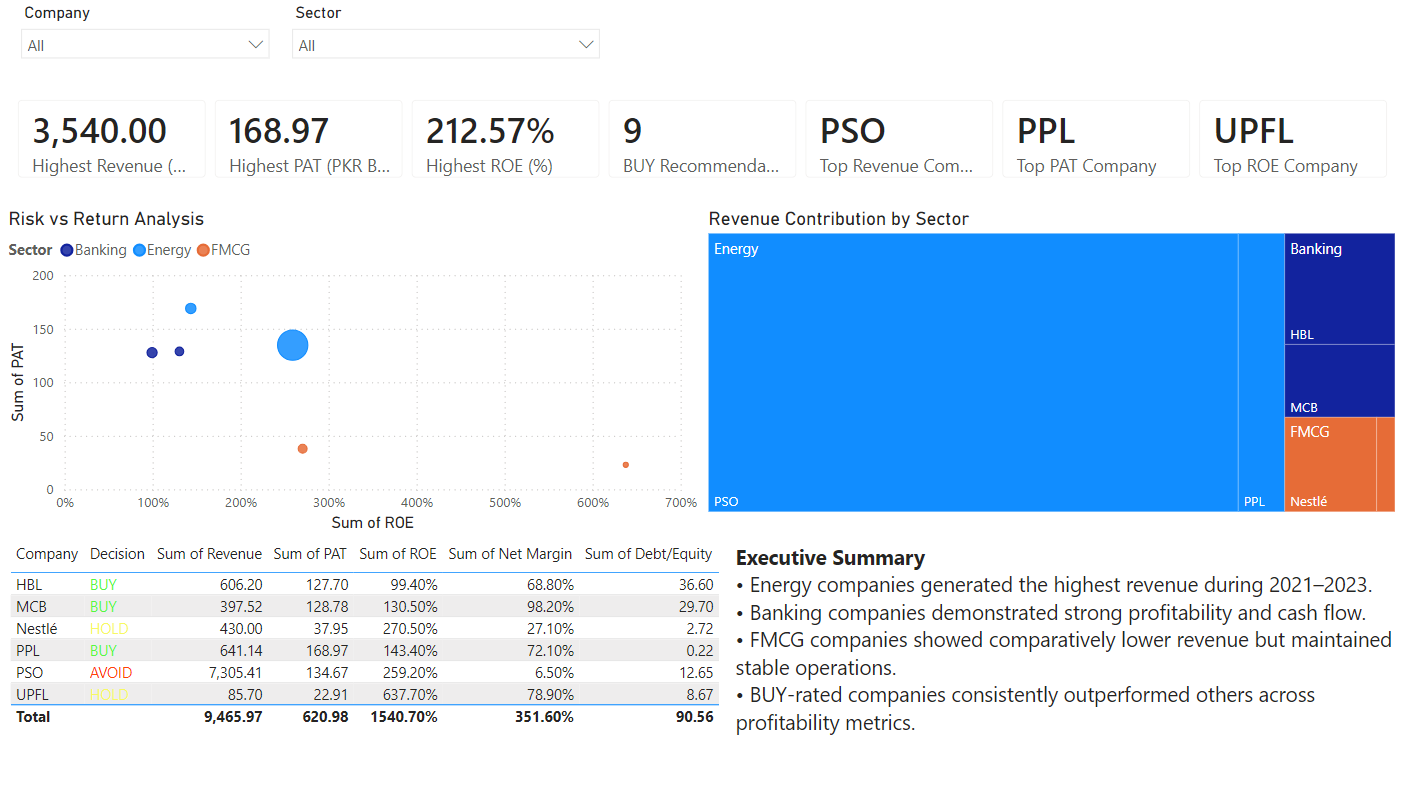

What the dashboard file says about the page in this screenshot:
{"tool":"powerbi","page":{"name":"Investment Insights","canvas":[1280,720],"ordinal":2},"visuals":[{"type":"cardVisual","fields":{"Data":["FactFinancials.Highest Revenue","FactFinancials.Highest PAT","FactFinancials.Highest ROE","FactFinancials.BUY Count","FactFinancials.Top Revenue Company","FactFinancials.Top PAT Company","FactFinancials.Top ROE Company"]},"box":[0,75,1280,105],"z":0},{"type":"slicer","fields":{"Values":["FactFinancials.Company"]},"box":[10,0,246,76],"z":1000},{"type":"scatterChart","title":"Risk vs Return Analysis","fields":{"X":["Sum(FactFinancials.ROE)"],"Y":["Sum(FactFinancials.PAT)"],"Series":["FactFinancials.Sector"],"Size":["Sum(FactFinancials.Revenue)"],"Category":["FactFinancials.Company"]},"box":[4,190,636,300],"z":2000},{"type":"treemap","title":"Revenue Contribution by Sector","fields":{"Values":["Sum(FactFinancials.Revenue)"],"Details":["FactFinancials.Company"],"Group":["FactFinancials.Sector"]},"box":[640,190,634,282],"z":3000},{"type":"tableEx","fields":{"Values":["FactFinancials.Company","FactFinancials.Decision","Sum(FactFinancials.Revenue)","Sum(FactFinancials.PAT)","Sum(FactFinancials.ROE)","Sum(FactFinancials.Net Margin)","Sum(FactFinancials.Debt/Equity)"]},"box":[4.3,490,660,220],"z":4000},{"type":"textbox","box":[664.3,490,610,230],"z":5000},{"type":"slicer","fields":{"Values":["FactFinancials.Sector"]},"box":[256,0,300,86],"z":6000}]}

Visuals, with their boxes in screenshot pixels (x1, y1, x2, y2), scaled from the page's 1280x720 canvas onto the 1405x789 screenshot:
cardVisual - FactFinancials.Highest Revenue x FactFinancials.Highest PAT: region(0, 82, 1404, 197)
slicer - FactFinancials.Company: region(11, 0, 281, 83)
"Risk vs Return Analysis" scatterChart: region(4, 208, 702, 537)
"Revenue Contribution by Sector" treemap: region(702, 208, 1398, 517)
tableEx - FactFinancials.Company x FactFinancials.Decision: region(5, 537, 729, 778)
textbox: region(729, 537, 1399, 788)
slicer - FactFinancials.Sector: region(281, 0, 610, 94)
